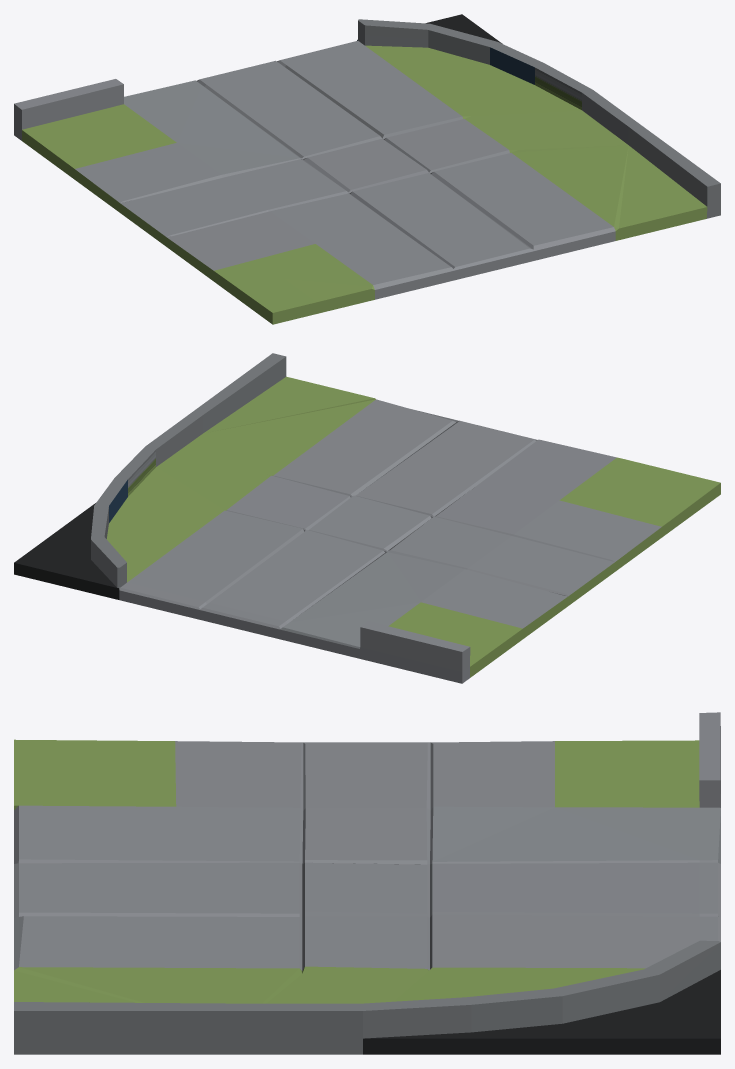
The model's file is Road_017-col.glb.
The picture shows the model from 3 angles, top to bottom: view 1: azimuth 30°, elevation 25°; view 2: azimuth 150°, elevation 25°; view 3: azimuth 270°, elevation 25°; orthographic projection. The views are drawn at different scales.
Parts seen in each view (by area): view 1: Sidewalk_04_A-col; view 2: Sidewalk_04_A-col; view 3: Sidewalk_04_A-col.
Part boxes in pixels (x1,y1,x2,y2): Sidewalk_04_A-col: [14, 14, 720, 324]; Sidewalk_04_A-col: [14, 353, 720, 683]; Sidewalk_04_A-col: [14, 712, 720, 1054].
Bounding box in the file's own units: 2 × 0.1363 × 2.
Materials: 1 (1 with a texture image).
